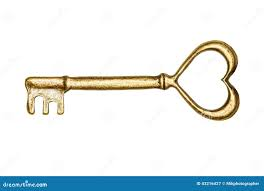key: (11, 39, 246, 126)
